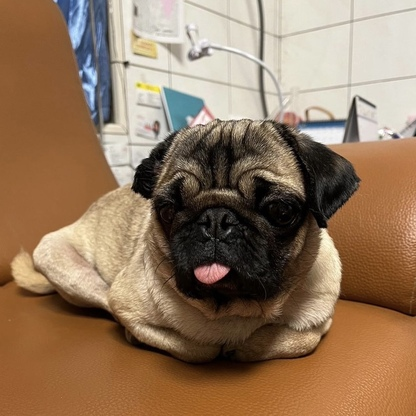Pug: (6, 113, 371, 371)
